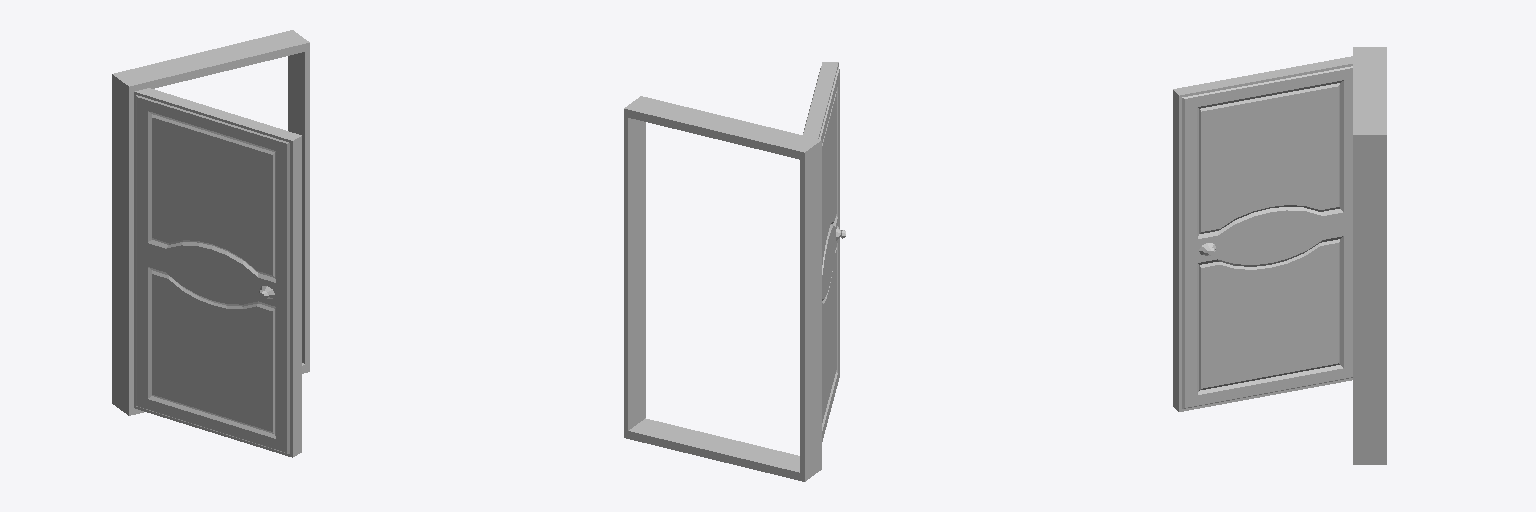
The model's file is drzwiok_000015.obj.
3 views of the same model, side by side, from view 1: azimuth 30°, elevation 25°; view 2: azimuth 150°, elevation 25°; view 3: azimuth 270°, elevation 25° (orthographic).
Visible parts, largest first — view 1: Door_4.001_Cube.001, Kostka; view 2: Kostka, Door_4.001_Cube.001; view 3: Door_4.001_Cube.001, Kostka.
Part boxes in pixels (bbox=[...]): Door_4.001_Cube.001: bbox=[134, 88, 301, 457]; Kostka: bbox=[112, 30, 309, 415]; Kostka: bbox=[624, 96, 821, 481]; Door_4.001_Cube.001: bbox=[803, 62, 845, 441]; Door_4.001_Cube.001: bbox=[1173, 56, 1352, 411]; Kostka: bbox=[1353, 47, 1386, 464].
Size of the model in its own units: 0.7416 by 1.29 by 0.7626.